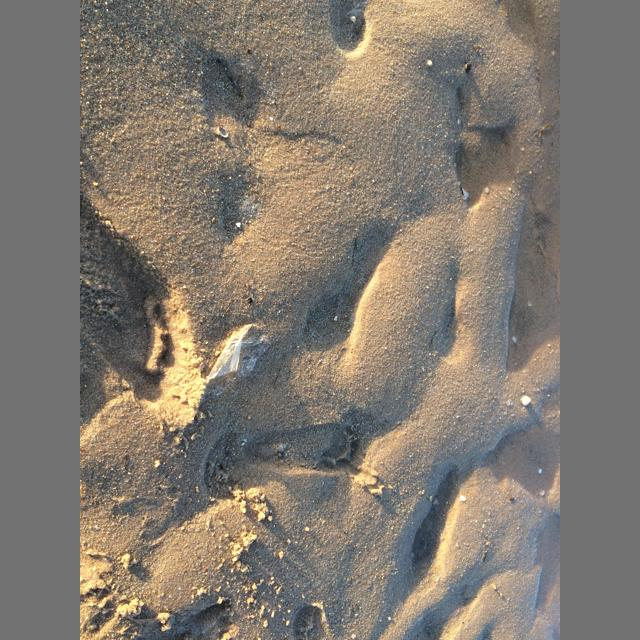litter: (202, 325, 272, 402)
